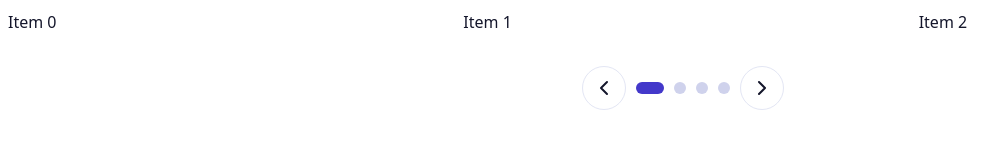
Test: Carousel › moves with arrows and dots
The width and height of the screenshot is (984, 160).
Click the button named "next slide". click: [762, 88]
box: [740,66,784,110]
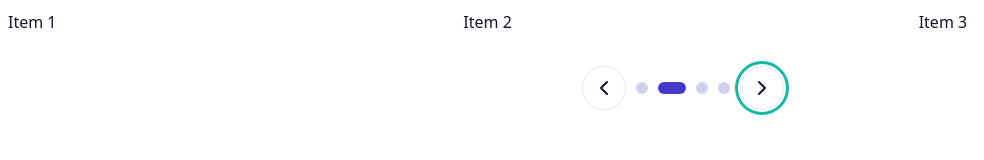
Check: the button named "go to slide" is marked as current, box [658,82,686,94]
Click the button named "previous slide". click: [604, 88]
box: [582,66,626,110]
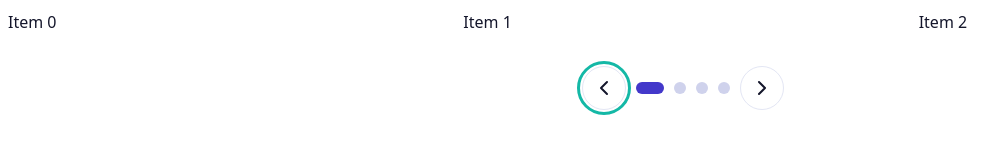
Check: the button named "go to slide" is marked as current, box [636,82,664,94]
